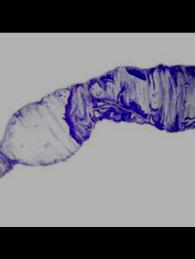Plastic: (0, 58, 194, 181)
